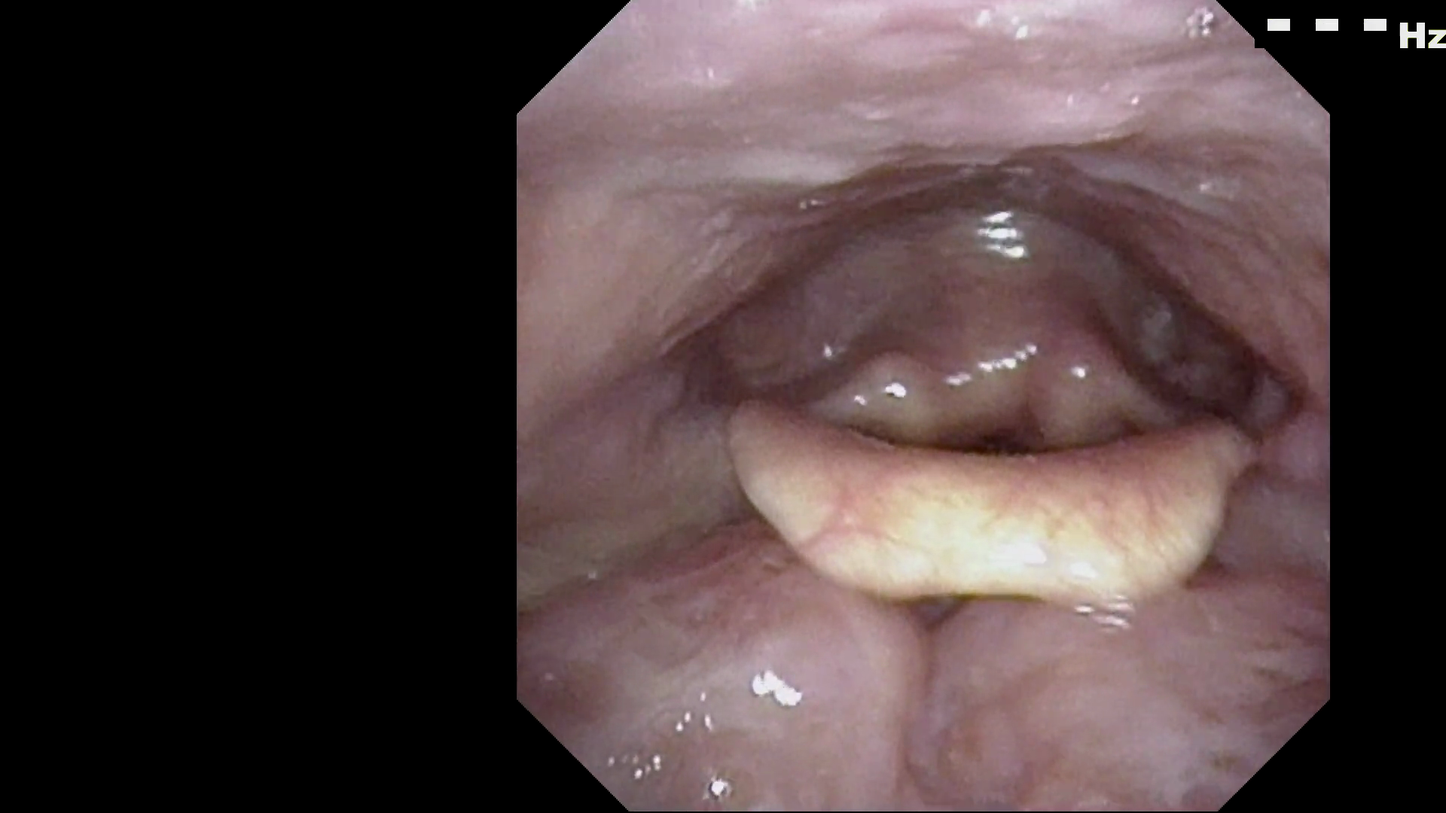epiglottis: (699, 383, 1301, 622)
trachea: (950, 367, 1097, 521)
